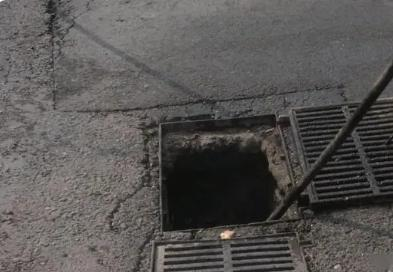wellcover: (105, 87, 393, 272)
